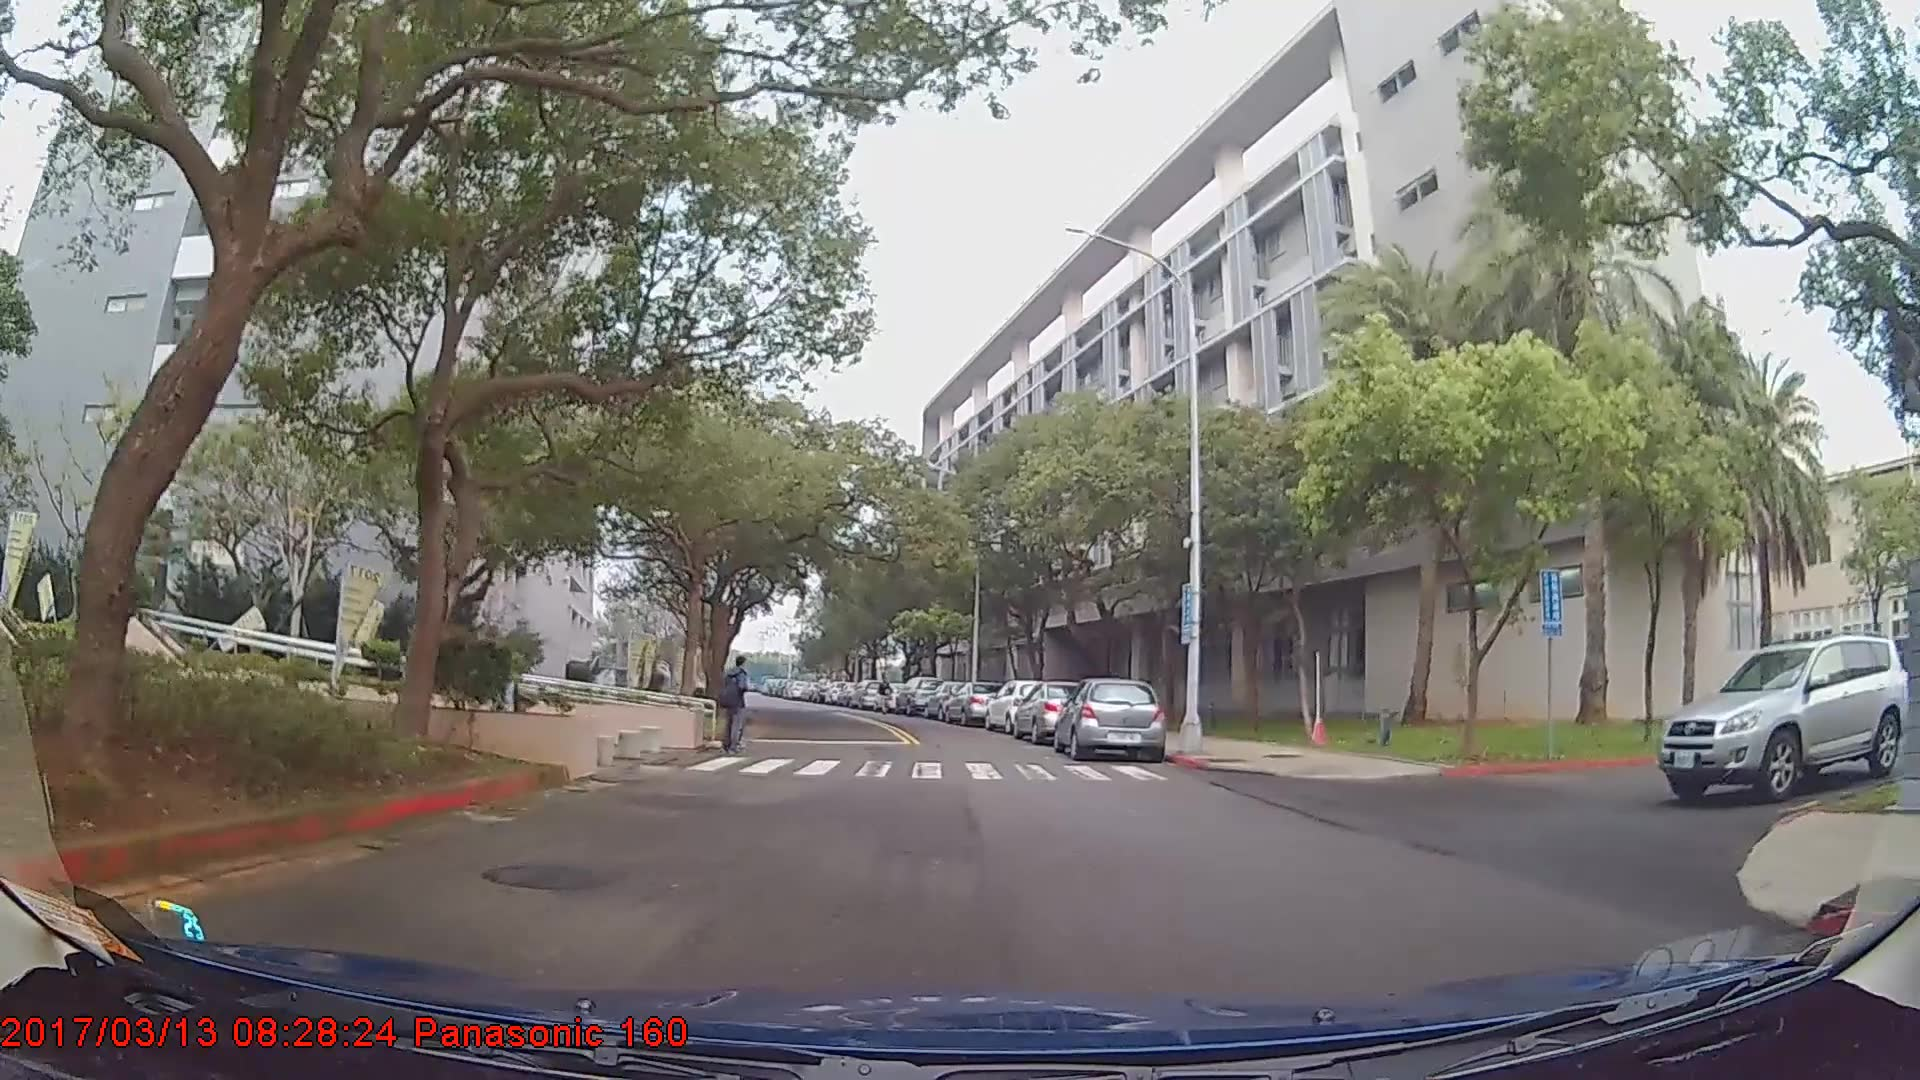pedestrian: (720, 659, 759, 765), (493, 656, 533, 752), (875, 674, 895, 717)
vehicle: (1657, 634, 1909, 803), (1052, 678, 1166, 762), (1011, 682, 1099, 746), (982, 681, 1059, 735), (941, 681, 1006, 728), (893, 677, 941, 717)
